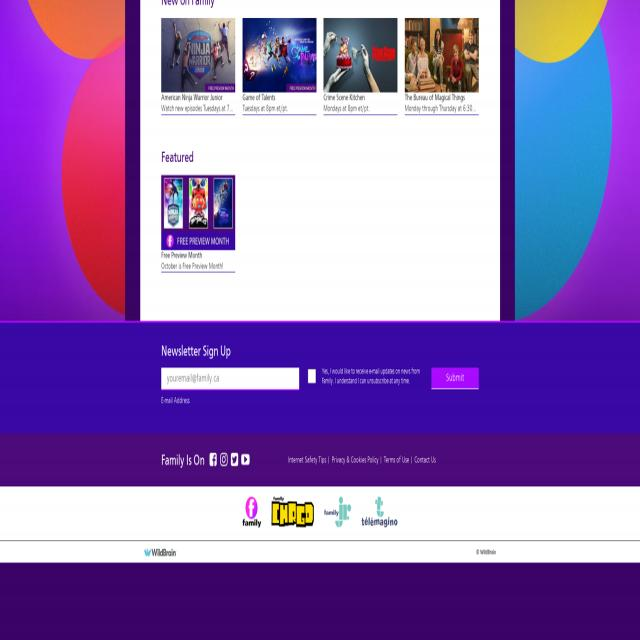button: (162, 175, 236, 250), (162, 18, 236, 93), (242, 18, 316, 93), (324, 18, 398, 93), (405, 18, 479, 93), (272, 497, 314, 527), (362, 497, 398, 527), (432, 367, 478, 390), (324, 497, 352, 527), (243, 497, 261, 527), (218, 451, 230, 469), (240, 451, 251, 469), (208, 451, 218, 469), (230, 451, 240, 469)
field: (161, 367, 299, 391), (308, 369, 316, 384)
